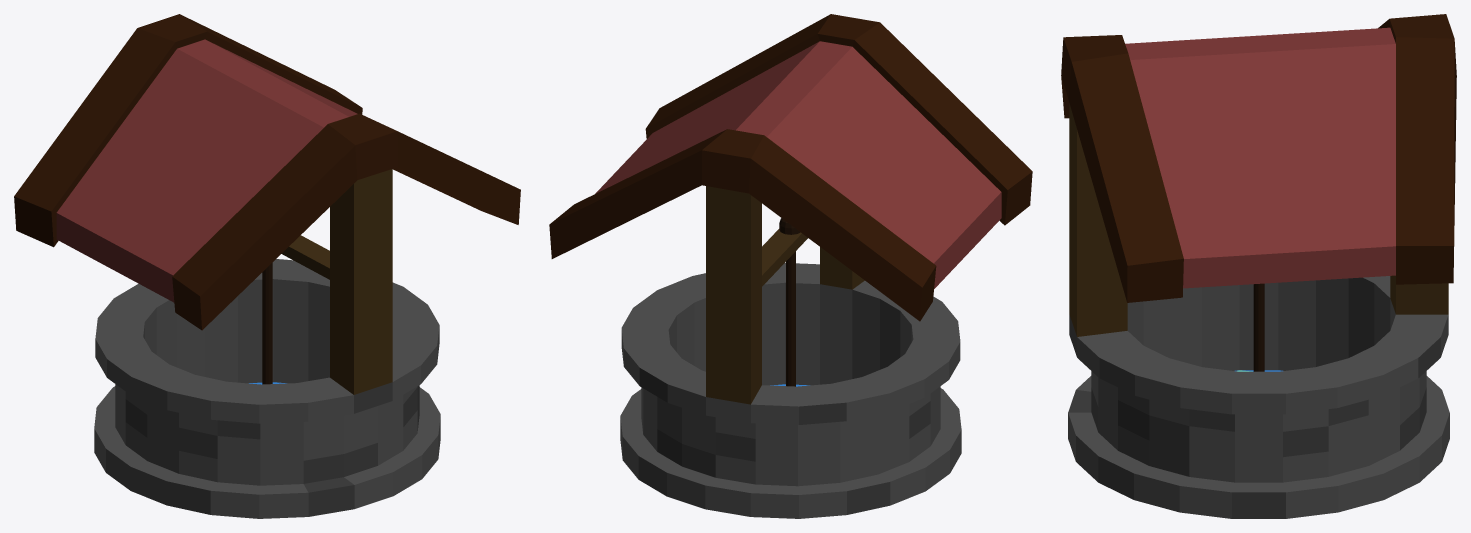
The model's file is Water Well.fbx.
3 views of the same model, side by side, from view 1: azimuth 30°, elevation 25°; view 2: azimuth 150°, elevation 25°; view 3: azimuth 270°, elevation 25° (orthographic). The views are drawn at different scales.
Parts seen in each view (by area): view 1: Water well; view 2: Water well; view 3: Water well.
Part boxes in pixels (x1,y1,x2,y2): Water well: [14, 14, 520, 518]; Water well: [549, 14, 1032, 518]; Water well: [1061, 14, 1456, 518].
Bounding box in the file's own units: 952 × 865 × 769.
